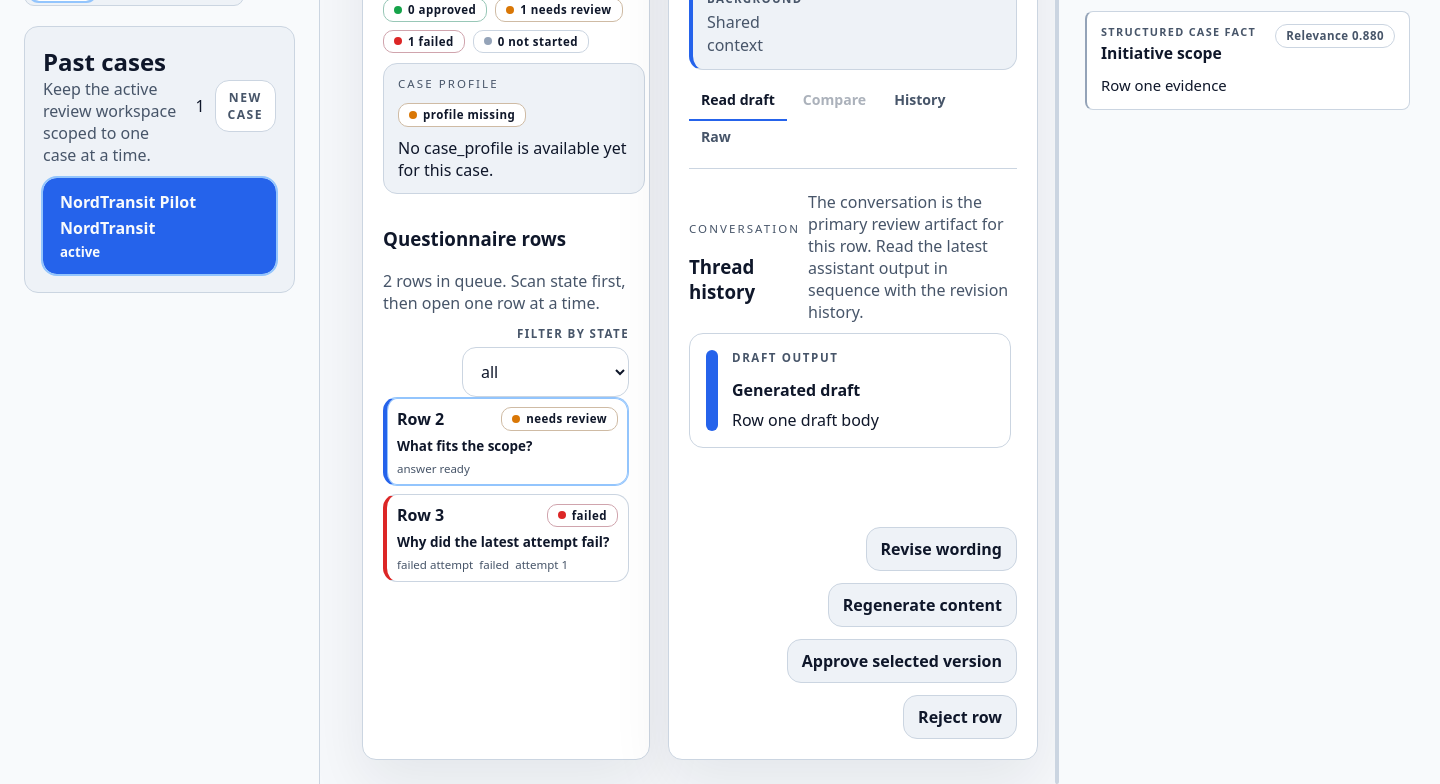
it: App › clears stale answer state when switching to a failed no-answer row
This screenshot has width=1440, height=784.
(page scrolled)
Expected: the text "Row one draft body" is shown, [732,409,879,431]
Click the button with aria-label "Row 3 Why did the latest attempt fail?" at (506, 538), box [383,494,629,582]
(page scrolled)
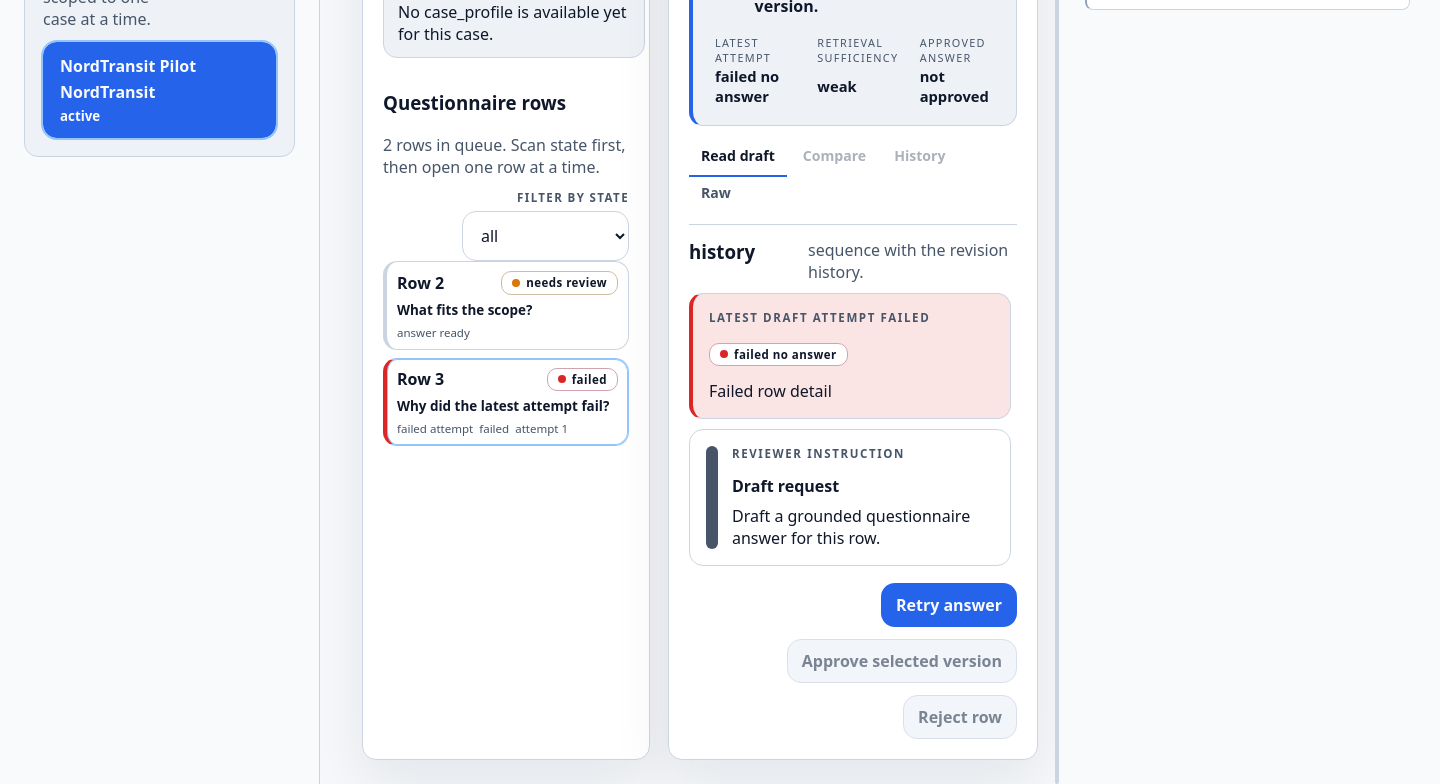
Now the text "Latest draft attempt failed" is shown, box [709,310,930,325]
Now the text "Failed row detail" is shown, box [709,380,832,402]
Now the text "Row one draft body" is not shown
